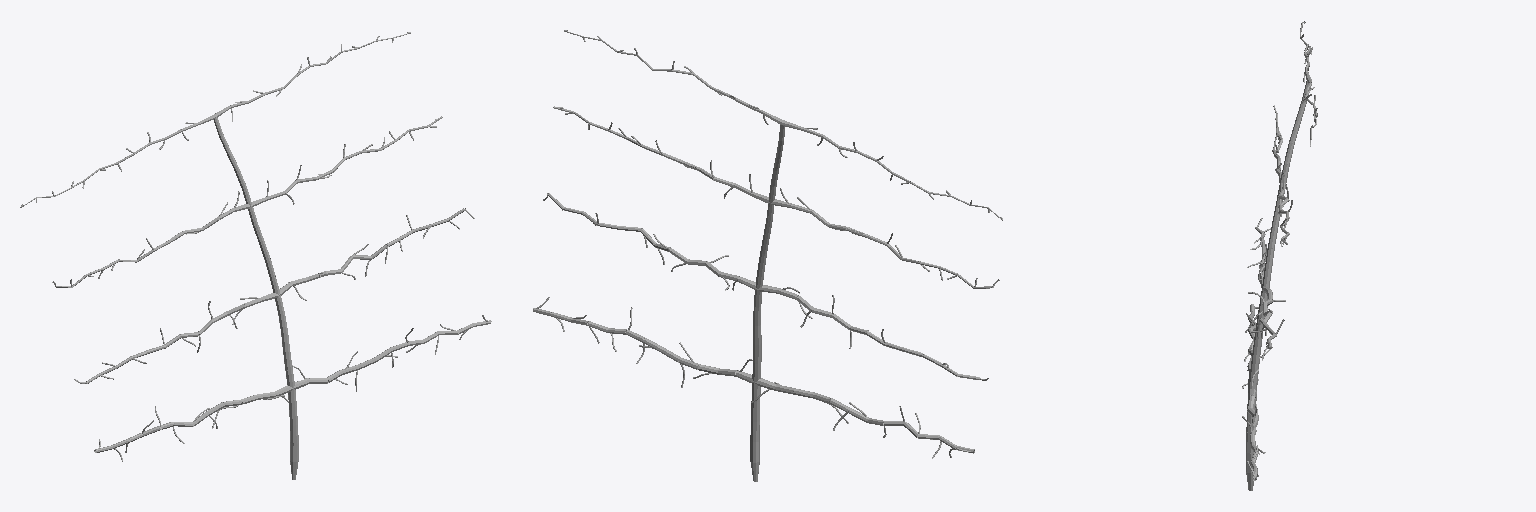
URDF robot description (tree):
<?xml version="1.0" ?>
<!-- =================================================================================== -->
<!-- |    This document was autogenerated by xacro from [local-path]/catkin_ws/src/fmauch_universal_robot/ur_e_description/urdf/ur5e_robot.urdf.xacro | -->
<!-- |    EDITING THIS FILE BY HAND IS NOT RECOMMENDED                                 | -->
<!-- =================================================================================== -->
<robot name="tree" xmlns:xacro="http://ros.org/wiki/xacro">  <link name="tree">
<gazebo>
  <plugin filename="libgazebo_ros_control.so" name="ros_control">
    <!--robotNamespace>/</robotNamespace-->
    <!--robotSimType>gazebo_ros_control/DefaultRobotHWSim</robotSimType-->
  </plugin>
  <!--
  <plugin name="gazebo_ros_power_monitor_controller" filename="libgazebo_ros_power_monitor.so">
    <alwaysOn>true</alwaysOn>
    <updateRate>1.0</updateRate>
    <timeout>5</timeout>
    <powerStateTopic>power_state</powerStateTopic>
    <powerStateRate>10.0</powerStateRate>
    <fullChargeCapacity>87.78</fullChargeCapacity>
    <dischargeRate>-474</dischargeRate>
    <chargeRate>525</chargeRate>
    <dischargeVoltage>15.52</dischargeVoltage>
    <chargeVoltage>16.41</chargeVoltage>
  </plugin>
-->
</gazebo>

    <visual>
      <geometry>
        <mesh filename="package://generate_points_tree/meshes/tree.obj" scale="1 1 1"/>
      </geometry>
      <material name="LightGrey">
        <color rgba="0.7 0.7 0.7 1.0"/>
      </material>
    </visual>
    <collision>
      <geometry>
      <mesh filename="package://generate_points_tree/meshes/tree.obj" scale="1 1 1"/>
      </geometry>
    </collision>
    <inertial>
      <mass value="4.0"/>
      <origin rpy="0 0 0" xyz="0.0 0.0 0.0"/>
      <inertia ixx="0.00443333156" ixy="0.0" ixz="0.0" iyy="0.00443333156" iyz="0.0" izz="0.0072"/>
    </inertial>
  </link>
    <link name="world"/>
  <joint name="tree_joint" type="fixed">
    <parent link="world"/>
    <child link="tree"/>
    <origin xyz="0 0 0" rpy="0 0 0" />
  </joint>
</robot>

--- Facts derived from the render (not from the file) ---
3 views of the same robot in one strip: view 1: azimuth 30°, elevation 25°; view 2: azimuth 150°, elevation 25°; view 3: azimuth 270°, elevation 25° (orthographic).
Robot: tree — 2 links, 1 joints (1 fixed); root link world; default pose: all joints at 0.
Links seen in each view (by area): view 1: tree; view 2: tree; view 3: tree.
Boxes of the visible links, box(x1,y1,x2,y2) form: tree: box(20, 32, 491, 479); tree: box(533, 30, 1002, 481); tree: box(1242, 21, 1317, 490).
Size in the robot's own frame: 25.55 by 3.52 by 21.56 metres.
Meshes: 1 distinct files referenced, 1 mesh visuals loaded (1 OBJ).
